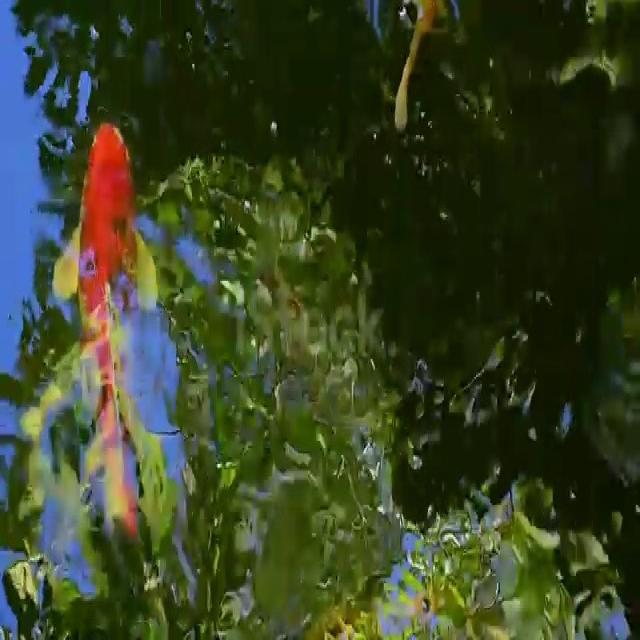fish: (42, 108, 182, 628)
